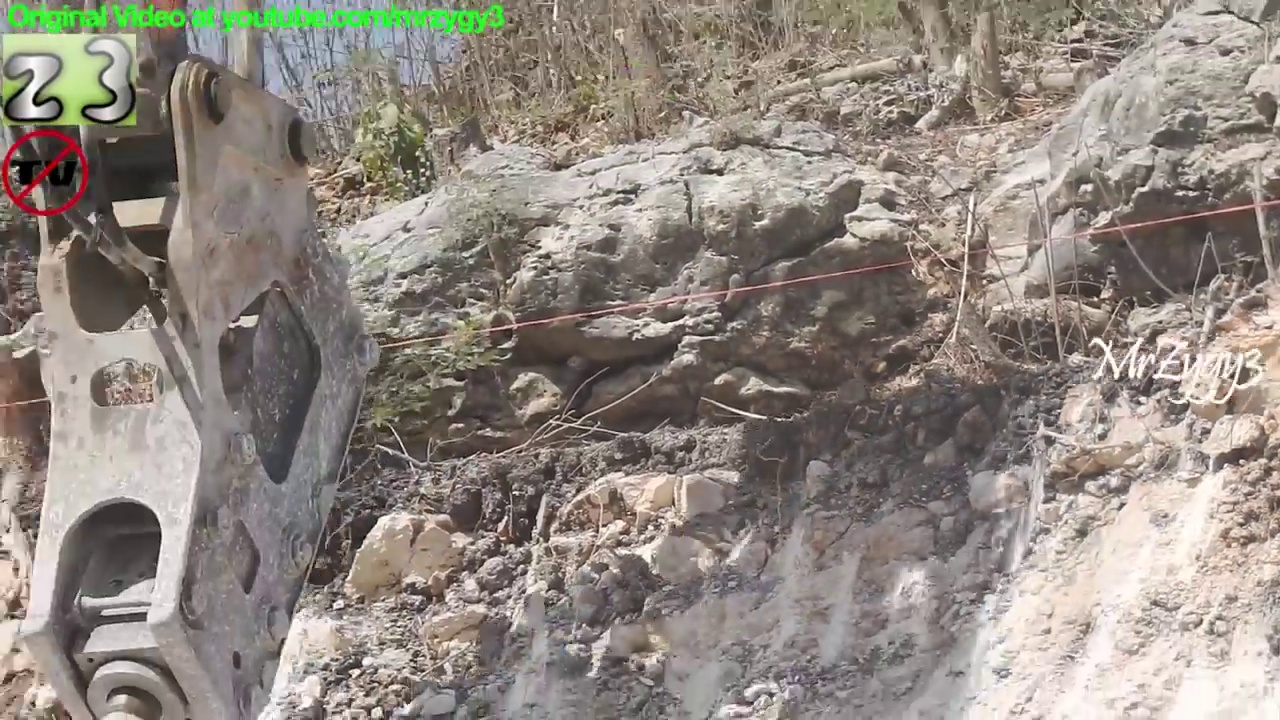excavator: (1, 1, 386, 720)
